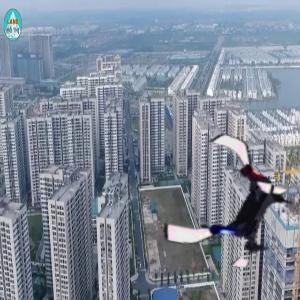drone: (164, 133, 300, 270)
